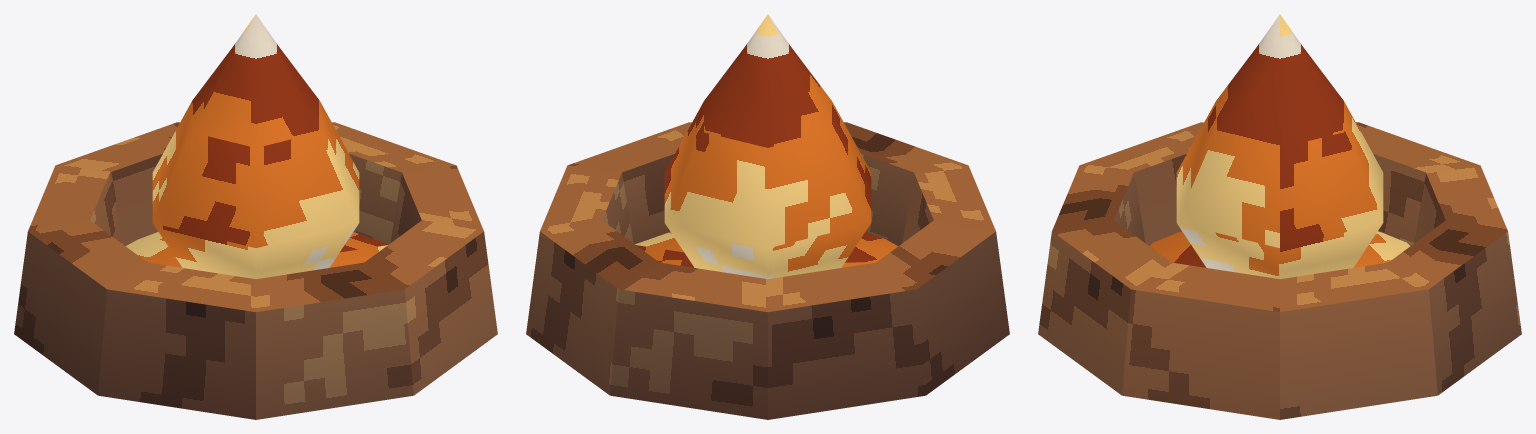
File: relic.brazier__pit.glb
3 renders of one model, left to right at view 1: azimuth 30°, elevation 25°; view 2: azimuth 150°, elevation 25°; view 3: azimuth 270°, elevation 25°, orthographic.
Visible parts, largest first — view 1: kit_pit, kit_flame, kit_embers; view 2: kit_pit, kit_flame, kit_embers; view 3: kit_pit, kit_flame, kit_embers.
Boxes of the visible parts, <box> form: kit_pit: <box>14,122,497,419</box>; kit_flame: <box>152,14,359,278</box>; kit_embers: <box>125,232,388,267</box>; kit_pit: <box>526,122,1009,419</box>; kit_flame: <box>664,14,871,278</box>; kit_embers: <box>635,232,898,267</box>; kit_pit: <box>1038,122,1521,419</box>; kit_flame: <box>1176,14,1383,278</box>; kit_embers: <box>1149,231,1410,267</box>.
Size of the model in its own units: 1.36 by 0.95 by 1.38.
Materials: 3 (3 with a texture image).
